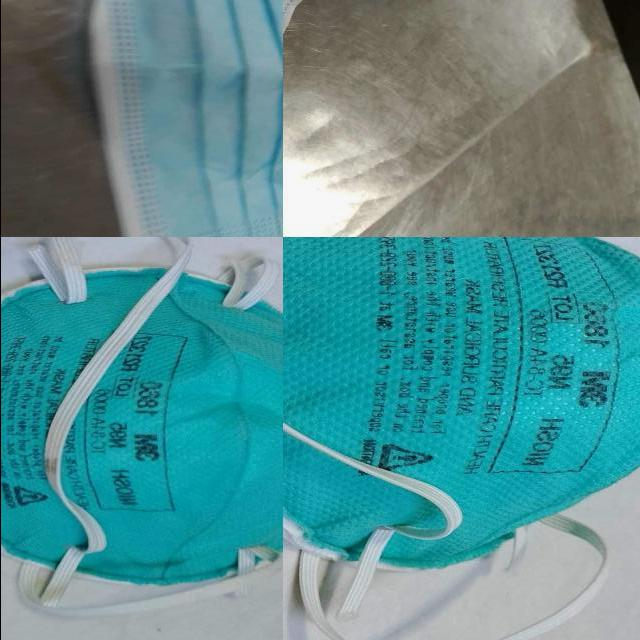General: (2, 232, 638, 636)
Pathological: (283, 234, 639, 574)
Sharps: (33, 241, 197, 609)
